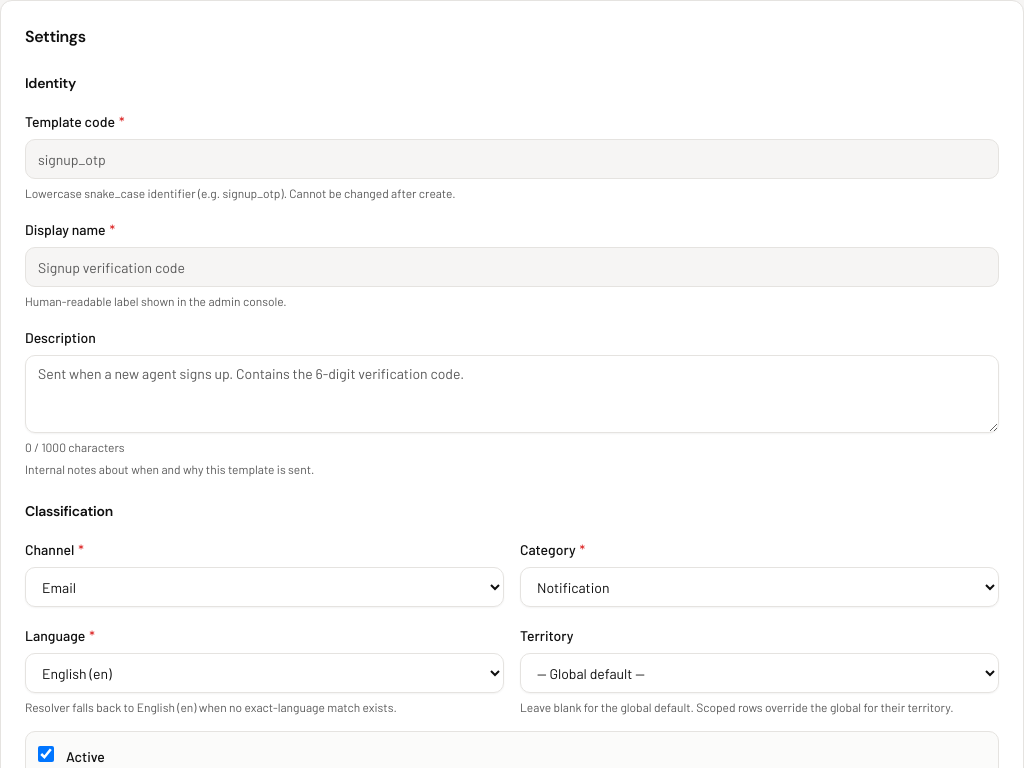
Scenario: create mode › surfaces the code validation error inline
The image size is (1024, 768).
In the field labelled "Template code*": [512, 159] box [25, 139, 999, 179], type "BadCode"
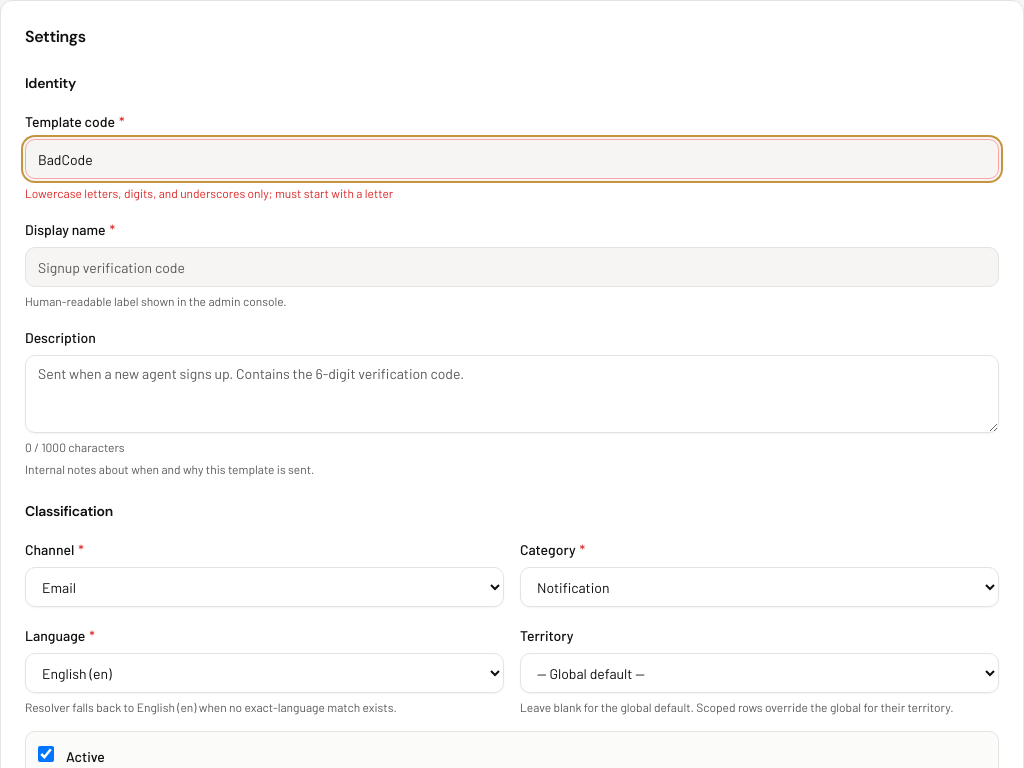
Now the text "Lowercase letters, digits, and underscores only; must start with a letter" is shown, box [25, 186, 393, 200]
